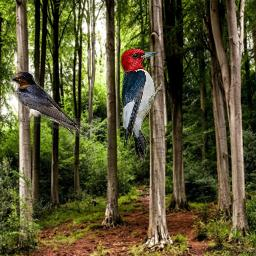Swallow: (11, 71, 89, 138)
Woodpecker: (118, 49, 167, 167)
